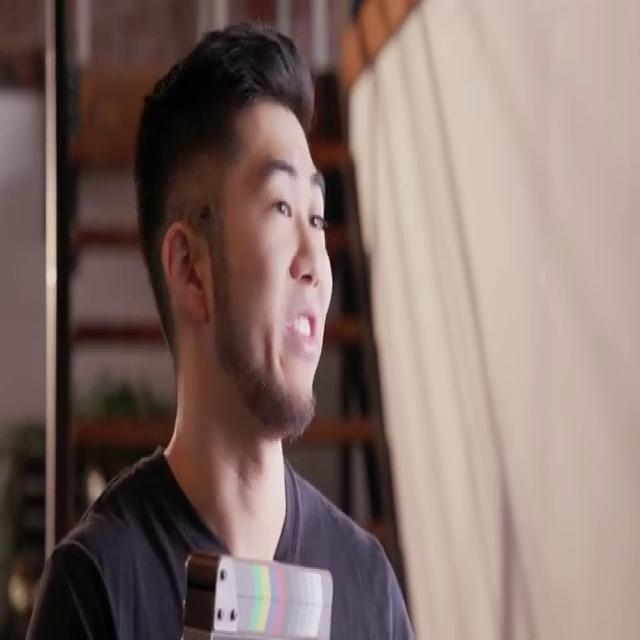Clapperboard: (179, 536, 334, 640)
